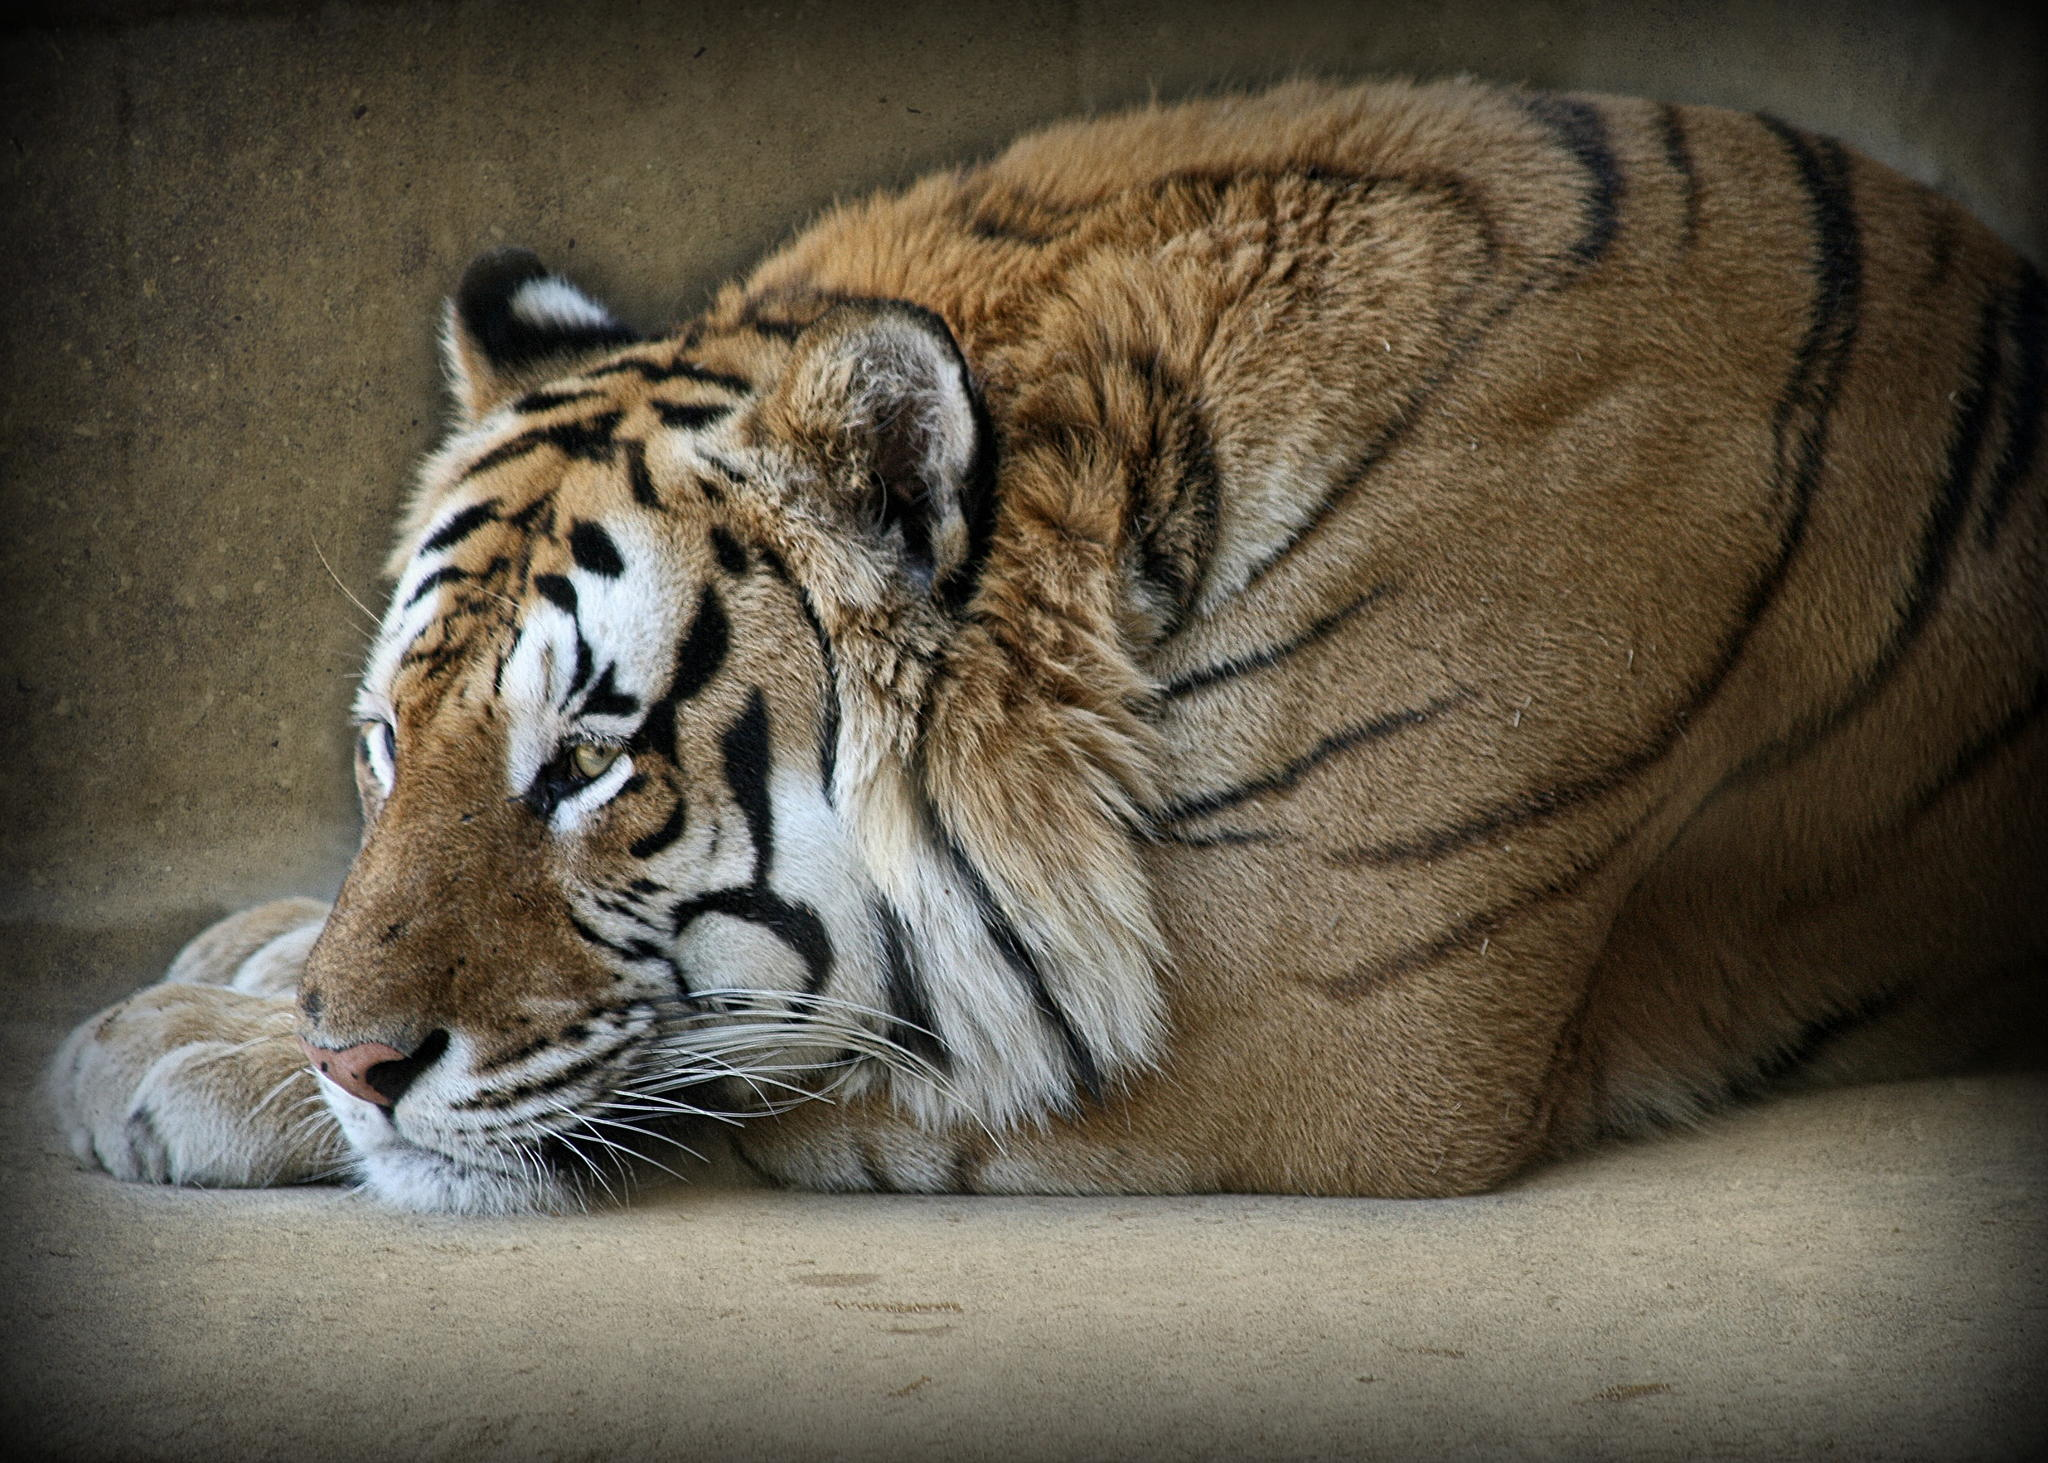tiger: (261, 141, 2012, 1202)
